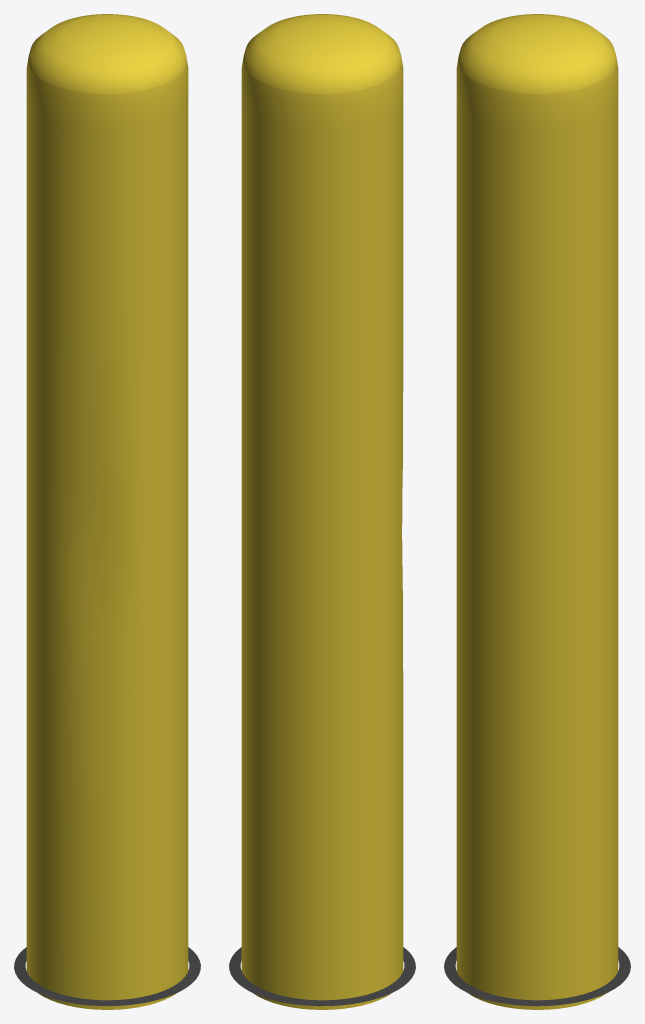
The model's file is Kit_Bollard.fbx.
The picture shows the model from 3 angles, left to right: view 1: azimuth 30°, elevation 25°; view 2: azimuth 150°, elevation 25°; view 3: azimuth 270°, elevation 25°; orthographic projection.
Parts seen in each view (by area): view 1: Kit_Bollard_LOD0; view 2: Kit_Bollard_LOD0; view 3: Kit_Bollard_LOD0.
Part boxes in pixels (bbox=[...]): Kit_Bollard_LOD0: bbox=[14, 14, 200, 1009]; Kit_Bollard_LOD0: bbox=[229, 14, 415, 1009]; Kit_Bollard_LOD0: bbox=[444, 14, 630, 1009].
Size of what is drawn, in the model's own units: 0.1944 by 1.09 by 0.1944.
